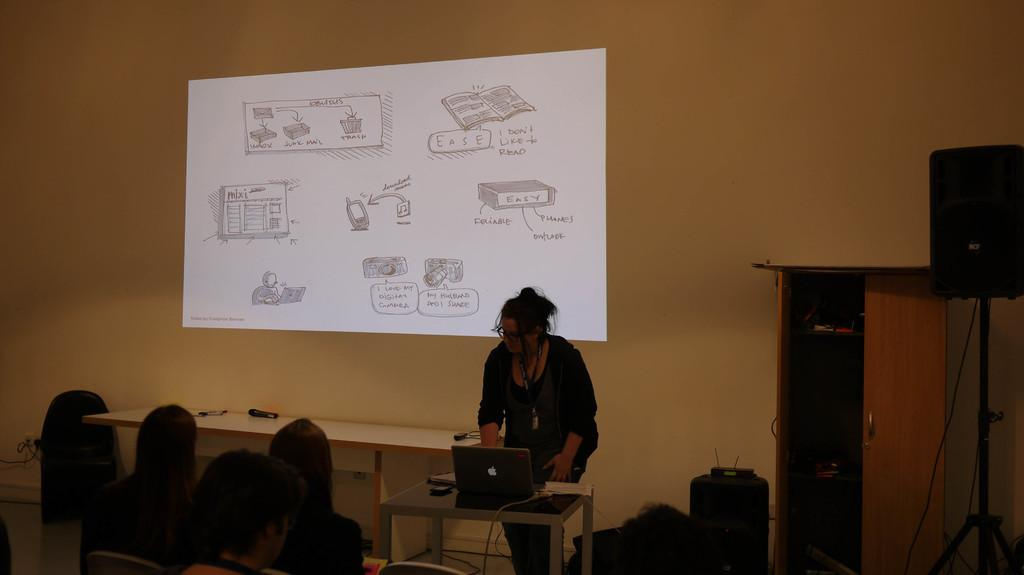Laptop: (449, 444, 547, 498)
